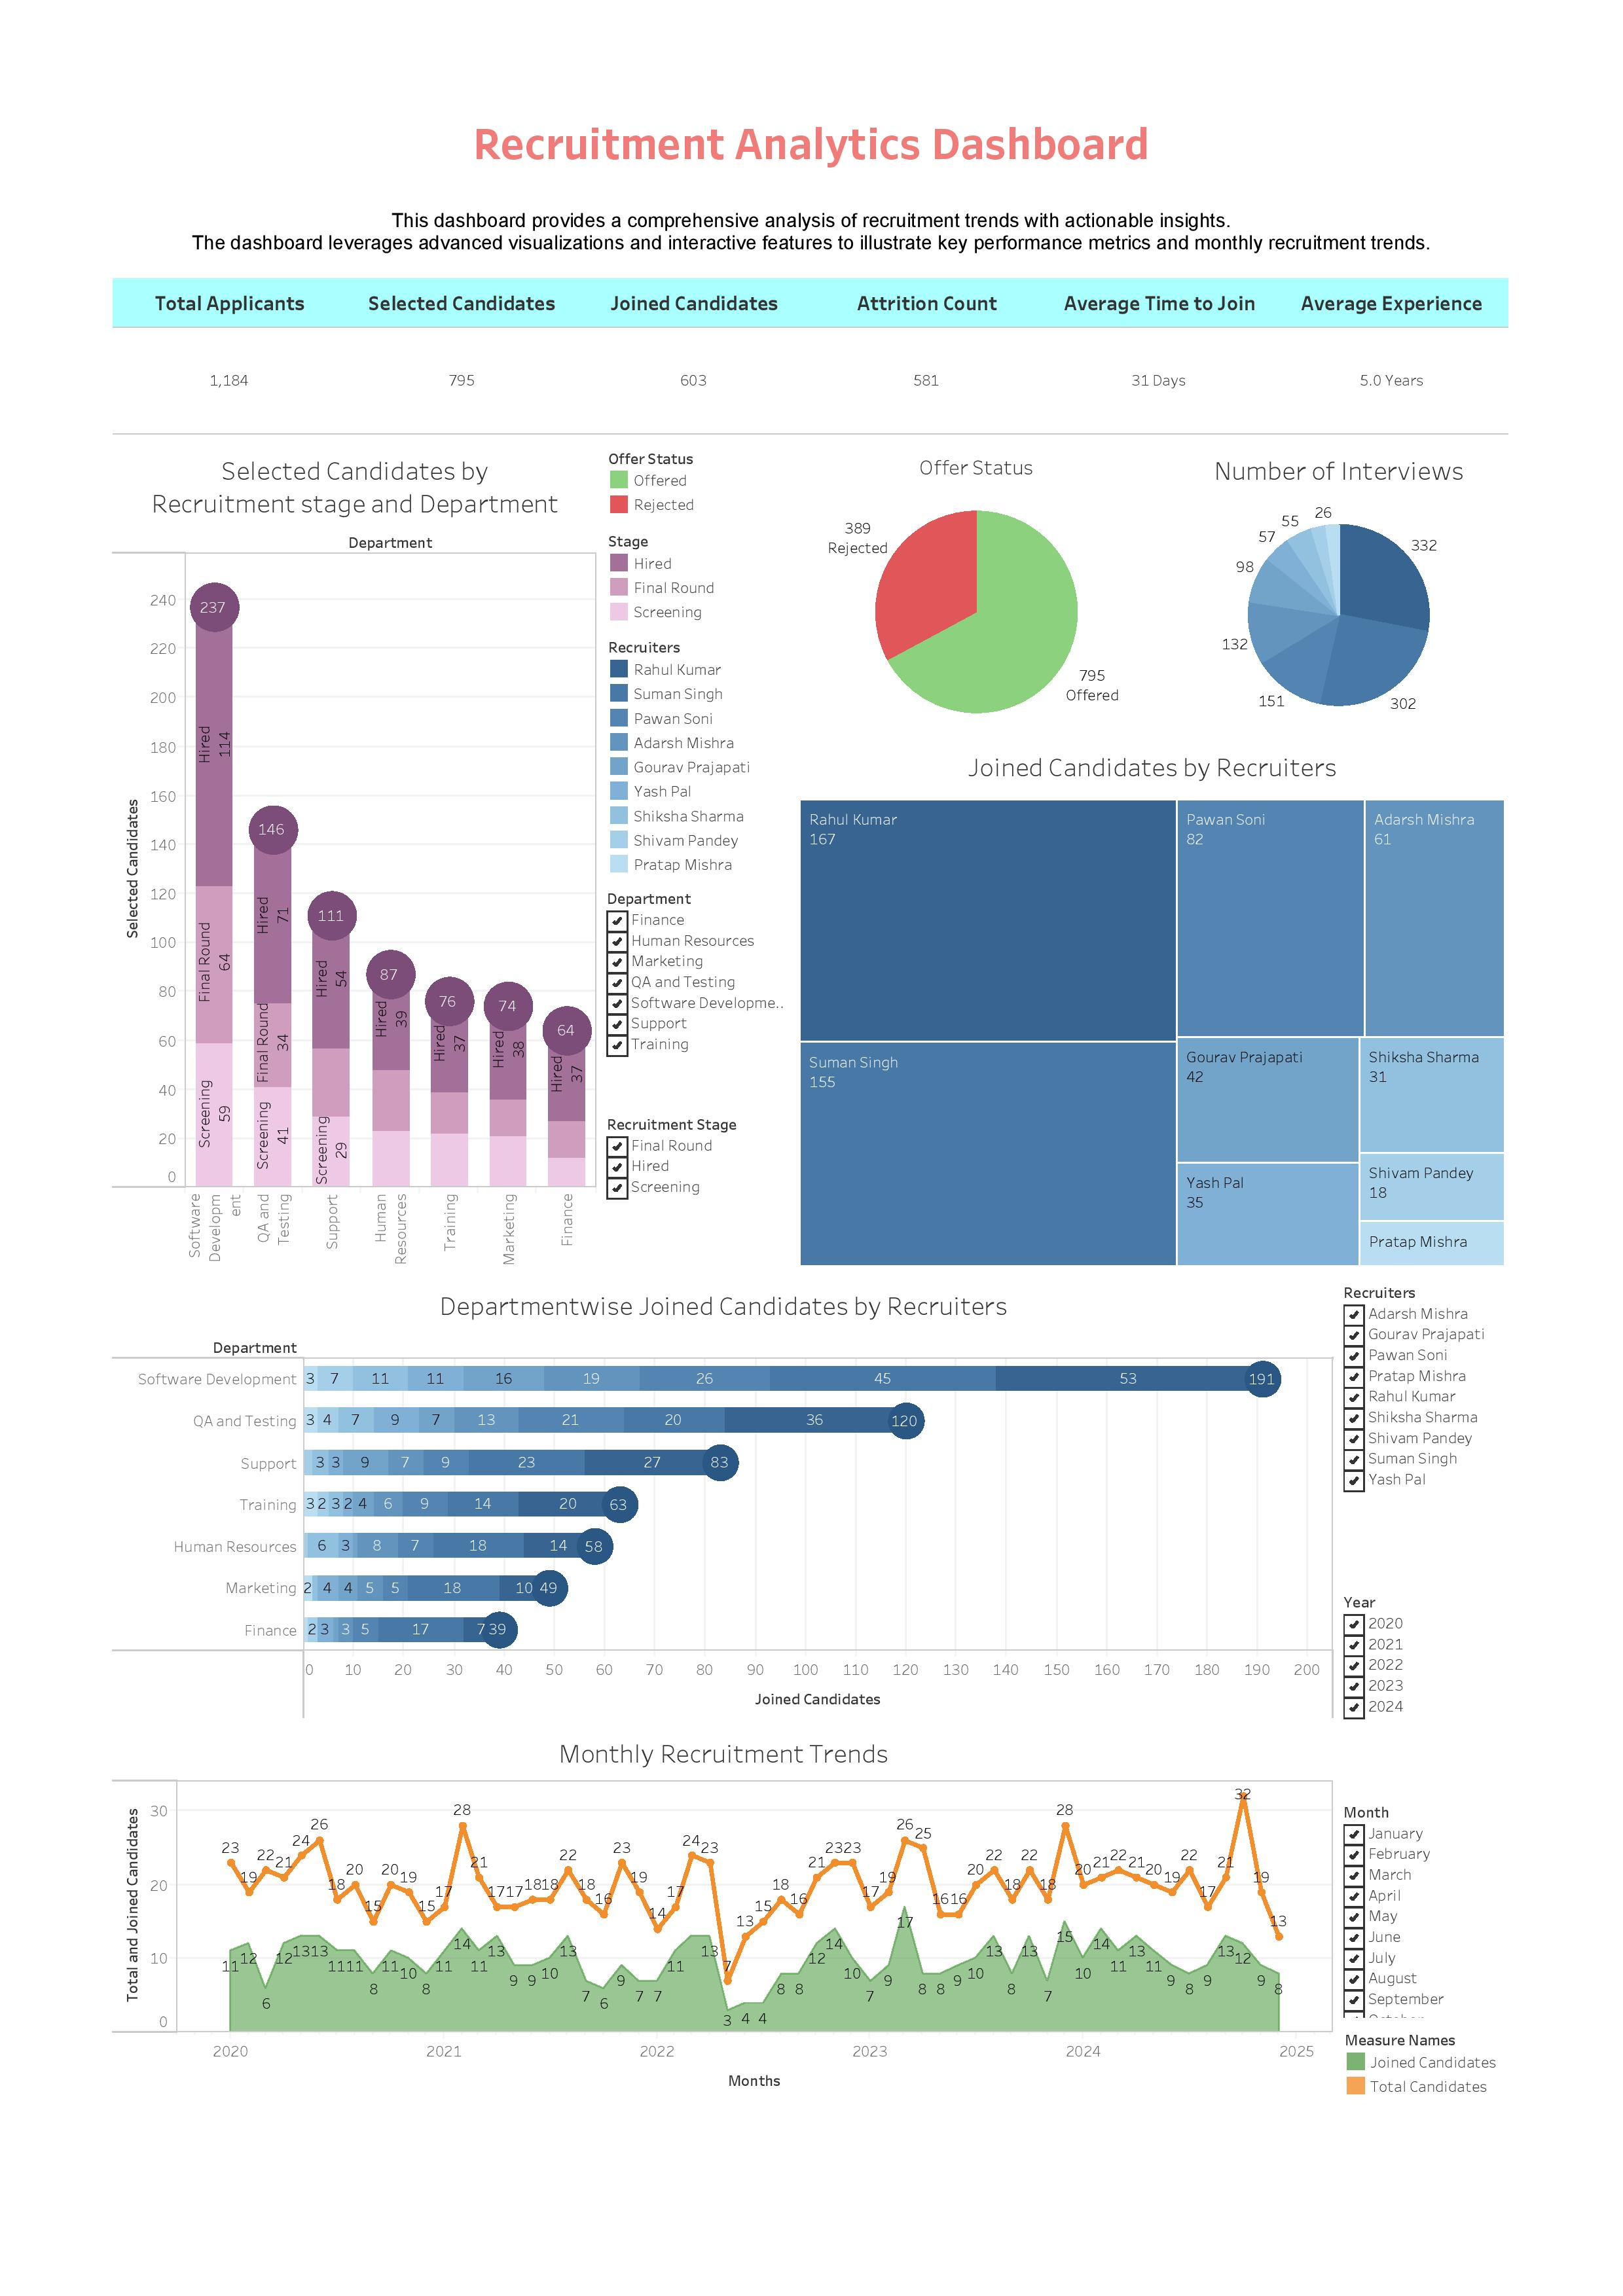

Layout of this report page (visuals, bound fields, positions):
{"tool":"tableau","page":{"name":"Final Dashboard","canvas":[1169,1654],"ordinal":0},"visuals":[{"type":"text","box":[8,8,1153,56]},{"type":"text","box":[8,76.2,1153,68.2]},{"type":"worksheet","title":"KPIs","mark":"Automatic","box":[8,144.5,1153,136.5]},{"type":"worksheet","title":"Stacked Bar Chart","mark":"Automatic","rows":["Calculation_1223008804627058689","Calculation_1223008804627058689"],"cols":["Department"],"box":[8,281,405,685]},{"type":"legend","title":"Pie Chart 1","param":"[federated.0mu7z920m4nfdg19o26f71wsa4oj].[none:Offer_Status:nk]","box":[413,281,154,68]},{"type":"worksheet","title":"Pie Chart 1","mark":"Pie","box":[567,281,306,242.6]},{"type":"worksheet","title":"Pie Chart 2","mark":"Pie","box":[873,281,288,242.6]},{"type":"legend","title":"Stacked Bar Chart","param":"[federated.0mu7z920m4nfdg19o26f71wsa4oj].[none:Stage:nk]","box":[413,349,154,87]},{"type":"legend","title":"Stacked Column Chart","param":"[federated.0mu7z920m4nfdg19o26f71wsa4oj].[none:Recruiter:nk]","box":[413,436,154,207]},{"type":"worksheet","title":"Tree Map","mark":"Automatic","box":[567,523.6,594,442.4]},{"type":"filter","title":"Stacked Bar Chart","param":"[federated.0mu7z920m4nfdg19o26f71wsa4oj].[none:Department:nk]","box":[413,643,154,185]},{"type":"filter","title":"Stacked Bar Chart","param":"[federated.0mu7z920m4nfdg19o26f71wsa4oj].[none:Stage:nk]","box":[413,828,154,138]},{"type":"worksheet","title":"Stacked Column Chart","mark":"Bar","rows":["Department"],"cols":["Calculation_2141461653519675395","Calculation_2141461653519675395"],"box":[8,966,1008.8,366.9]},{"type":"filter","title":"Stacked Column Chart","param":"[federated.0mu7z920m4nfdg19o26f71wsa4oj].[none:Recruiter:nk]","box":[1016.8,966,144.2,243]},{"type":"filter","title":"Line and Area Charts","param":"[federated.0mu7z920m4nfdg19o26f71wsa4oj].[yr:Application_Date:ok]","box":[1016.8,1220,144.2,172]},{"type":"worksheet","title":"Line and Area Charts","mark":"Line","rows":["Candidate_ID","Calculation_2141461653519675395"],"cols":["Application_Date"],"box":[8,1333,1008.8,313]},{"type":"filter","title":"Line and Area Charts","param":"[federated.0mu7z920m4nfdg19o26f71wsa4oj].[mn:Application_Date:ok]","box":[1016.8,1392,144.2,185.7]},{"type":"legend","title":"Line and Area Charts","param":"[federated.0mu7z920m4nfdg19o26f71wsa4oj].[:Measure Names]","box":[1016.8,1577.7,144.2,66]}]}

Visuals, with their boxes in screenshot pixels (x1, y1, x2, y2), scaled from the page's 1169x1654 canvas onto the 1623x2296 screenshot:
text: (11,11,1612,89)
text: (11,106,1612,200)
"KPIs" worksheet: (11,200,1612,390)
"Stacked Bar Chart" worksheet: (11,390,574,1341)
"Pie Chart 1" legend: (574,390,787,484)
"Pie Chart 1" worksheet (Pie marks): (787,390,1212,727)
"Pie Chart 2" worksheet (Pie marks): (1212,390,1612,727)
"Stacked Bar Chart" legend: (574,484,787,605)
"Stacked Column Chart" legend: (574,605,787,893)
"Tree Map" worksheet: (787,727,1612,1341)
"Stacked Bar Chart" filter: (574,893,787,1149)
"Stacked Bar Chart" filter: (574,1149,787,1341)
"Stacked Column Chart" worksheet (Bar marks): (11,1341,1412,1850)
"Stacked Column Chart" filter: (1412,1341,1612,1678)
"Line and Area Charts" filter: (1412,1694,1612,1932)
"Line and Area Charts" worksheet (Line marks): (11,1850,1412,2285)
"Line and Area Charts" filter: (1412,1932,1612,2190)
"Line and Area Charts" legend: (1412,2190,1612,2282)
